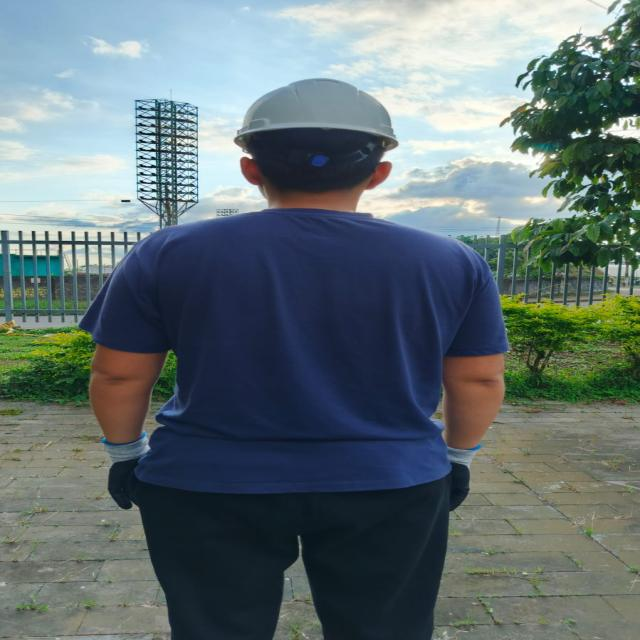gloves: (102, 431, 149, 510)
helmet: (234, 78, 398, 155)
